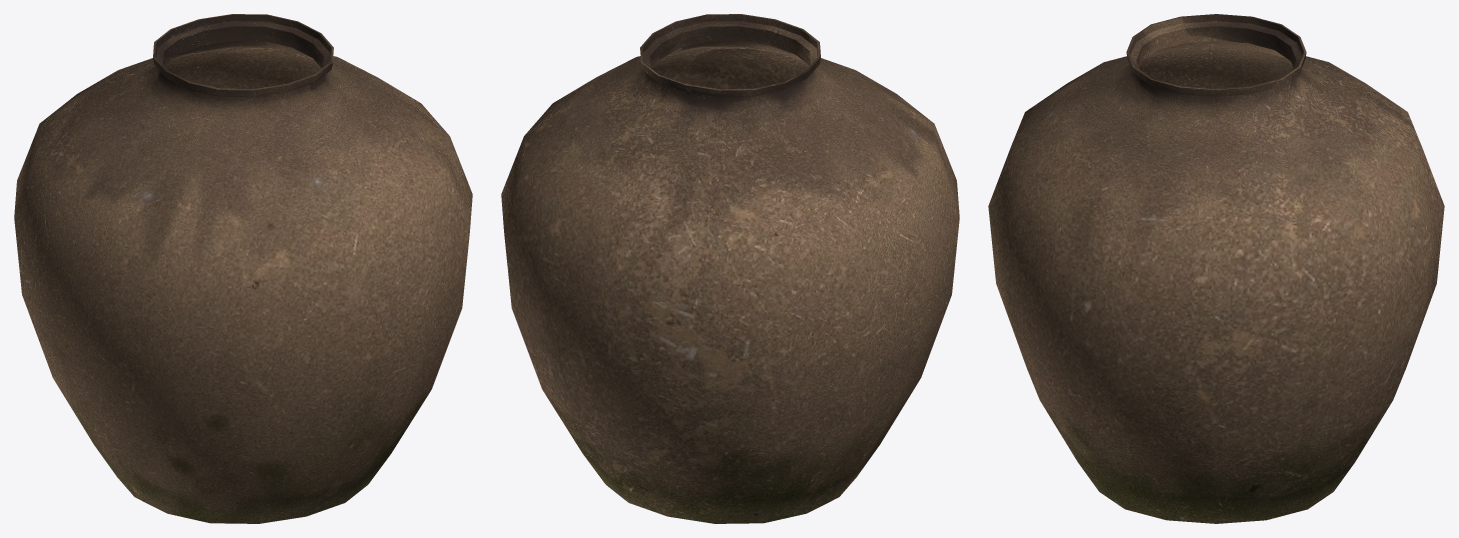
File: 立方体.002.fbx
The picture shows the model from 3 angles, left to right: view 1: azimuth 30°, elevation 25°; view 2: azimuth 150°, elevation 25°; view 3: azimuth 270°, elevation 25°; orthographic projection.
Visible parts, largest first — view 1: 立方体.002_Baked; view 2: 立方体.002_Baked; view 3: 立方体.002_Baked.
Boxes of the visible parts, box(x1,y1,x2,y2) form: 立方体.002_Baked: box(14, 14, 472, 523); 立方体.002_Baked: box(501, 14, 959, 523); 立方体.002_Baked: box(988, 14, 1444, 523).
Bounding box in the file's own units: 111 × 115 × 111.
1 material, 1 textured.
